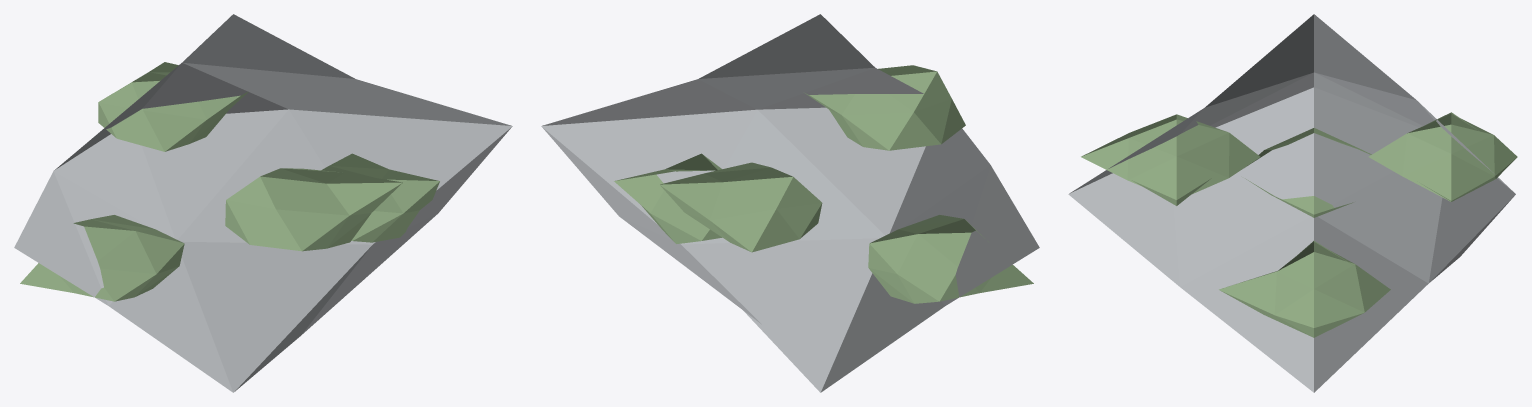
The model's file is moss_rock_v35.glb.
The picture shows the model from 3 angles, left to right: view 1: azimuth 30°, elevation 25°; view 2: azimuth 150°, elevation 25°; view 3: azimuth 270°, elevation 25°; orthographic projection.
Parts seen in each view (by area): view 1: lod0; view 2: lod0; view 3: lod0.
Part boxes in pixels (left/top/right/bottom): lod0: left=14, top=14, right=512, bottom=392; lod0: left=541, top=14, right=1039, bottom=392; lod0: left=1068, top=14, right=1517, bottom=392.
Size of what is drawn, in the model's own units: 0.7338 by 0.5328 by 0.5728.
